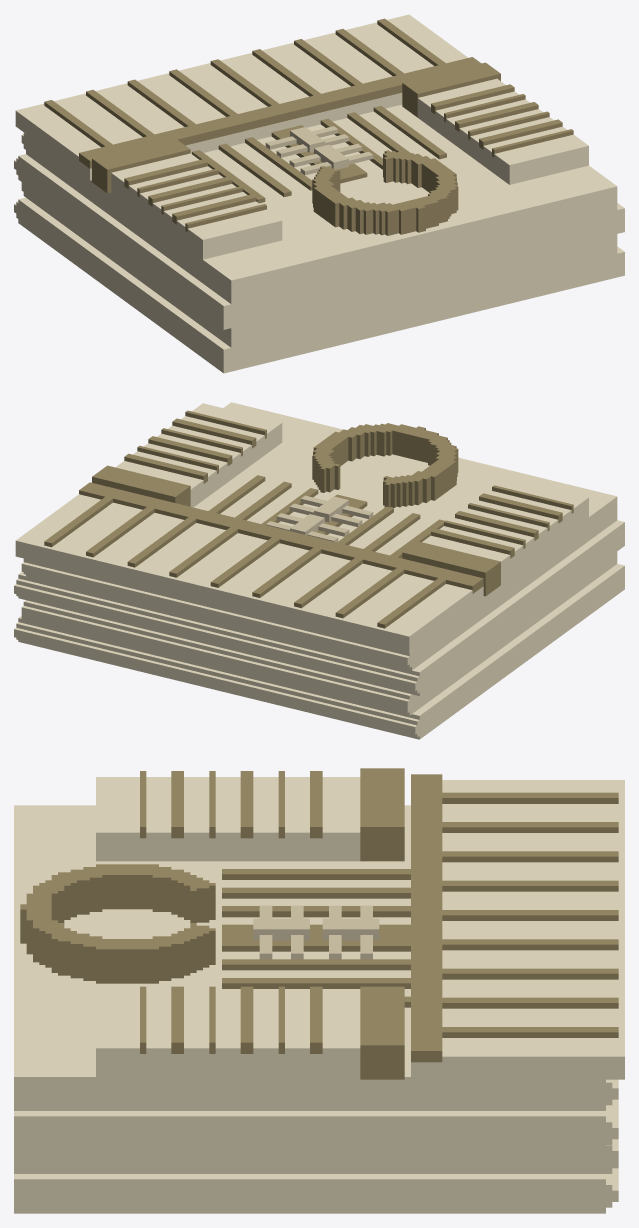
Rendered from gambeson.glb.
3 renders of one model, top to bottom at view 1: azimuth 30°, elevation 25°; view 2: azimuth 150°, elevation 25°; view 3: azimuth 270°, elevation 25°, orthographic. The views are drawn at different scales.
Parts seen in each view (by area): view 1: gambeson:compound; view 2: gambeson:compound; view 3: gambeson:compound.
Boxes of the visible parts, left/top/right/bottom form: gambeson:compound: left=14, top=14, right=624, bottom=373; gambeson:compound: left=14, top=402, right=624, bottom=739; gambeson:compound: left=14, top=768, right=624, bottom=1213.
Size of the model in its own units: 0.424 by 0.116 by 0.388.
